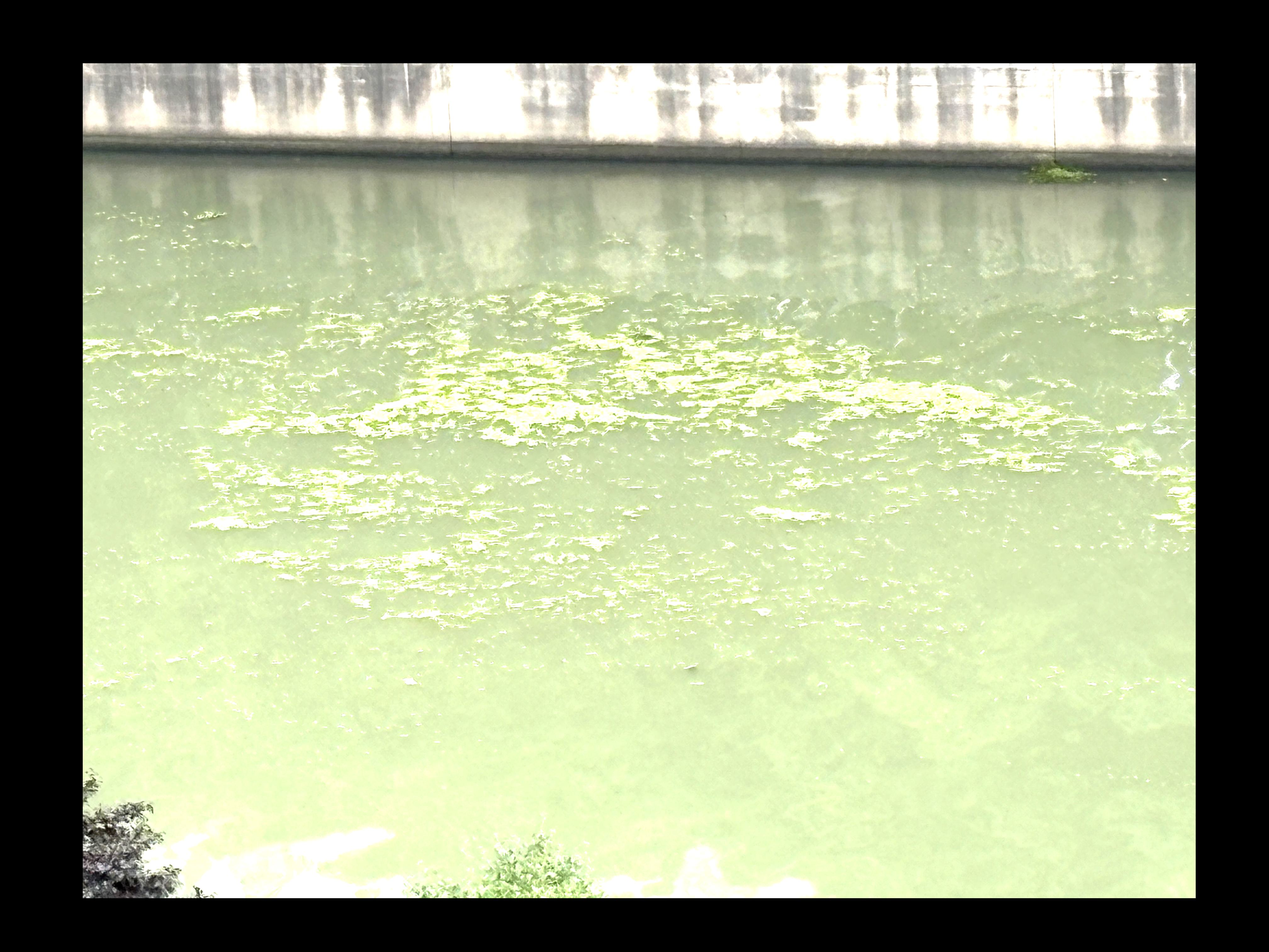Other: (305, 305, 1061, 452), (241, 535, 699, 621), (189, 447, 475, 521), (1103, 450, 1195, 534), (742, 495, 847, 532), (1125, 308, 1188, 347)
